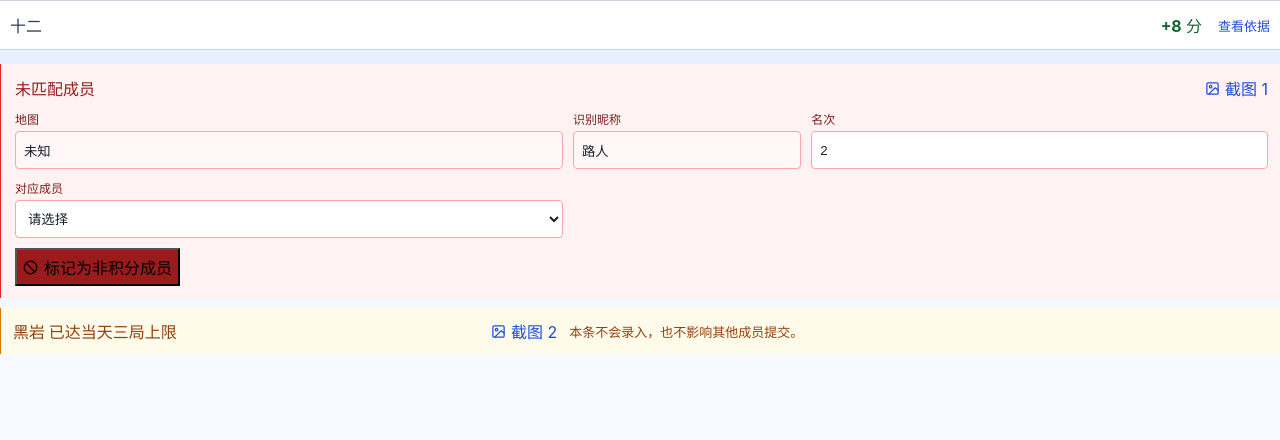
Test: RecognitionEvidence › shows member totals first and keeps normal evidence collapsed
Check: the text "十二" is shown, box [10, 16, 42, 36]
Check: the text "名次 1" is not shown
Click the button with aria-label "查看十二的依据" at x=26, y=26, box [10, 16, 1270, 36]
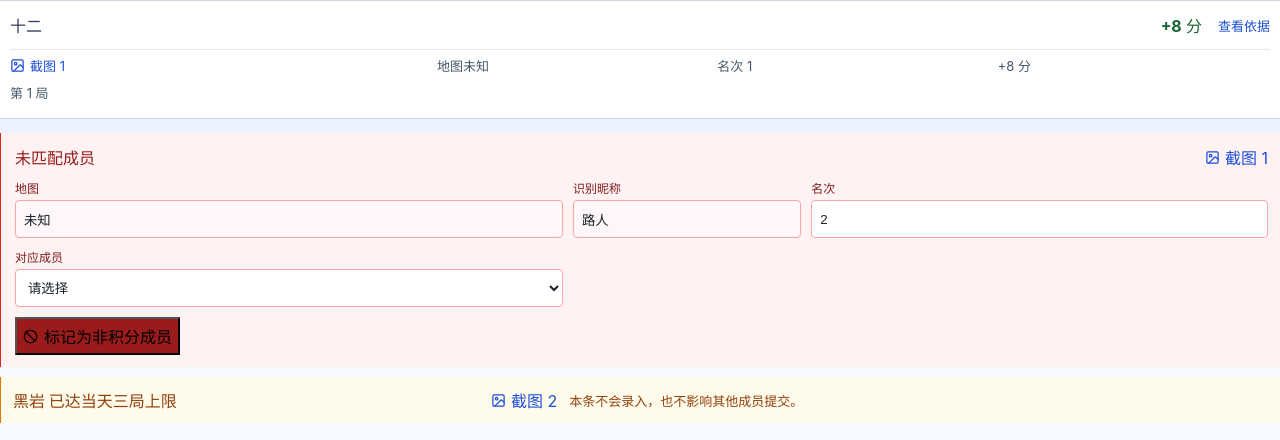
Check: the text "名次 1" is shown, box [717, 58, 752, 74]
